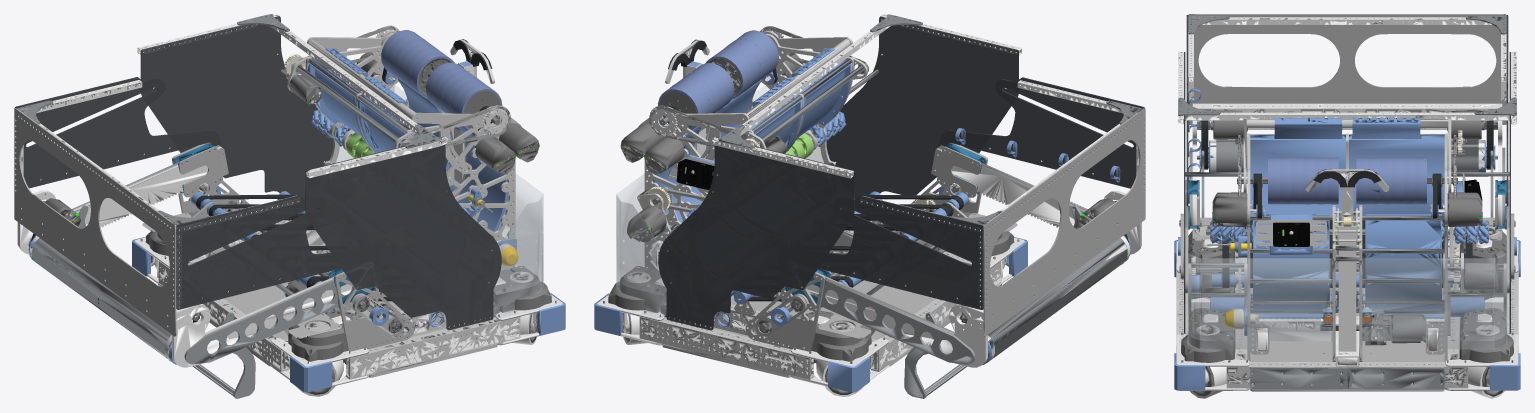
Rendered from chunk-7769.glb.
The picture shows the model from 3 angles, left to right: view 1: azimuth 30°, elevation 25°; view 2: azimuth 150°, elevation 25°; view 3: azimuth 270°, elevation 25°; orthographic projection.
Visible parts, largest first — view 1: frame, intake, flywheel, intake-roller, hood, kick-bar, climber, feeder; view 2: frame, intake, flywheel, intake-roller, hood, kick-bar, climber, feeder; view 3: frame, intake, flywheel, hood, intake-roller, climber, kick-bar.
Boxes of the visible parts, x1,y1,x2,y2 form: frame: (132, 14, 565, 396); intake: (14, 77, 352, 367); flywheel: (381, 30, 502, 129); intake-roller: (28, 235, 176, 364); hood: (307, 29, 508, 174); kick-bar: (78, 205, 255, 398); climber: (450, 39, 494, 83); feeder: (342, 129, 374, 158); frame: (594, 14, 1027, 396); intake: (807, 77, 1145, 367); flywheel: (658, 30, 778, 130); intake-roller: (983, 235, 1131, 364); hood: (651, 27, 852, 160); kick-bar: (904, 205, 1081, 398); climber: (665, 39, 709, 83); feeder: (785, 130, 818, 158); frame: (1174, 51, 1520, 398); intake: (1186, 14, 1508, 225); flywheel: (1237, 157, 1457, 204); hood: (1239, 117, 1455, 196); intake-roller: (1197, 139, 1497, 172); climber: (1305, 168, 1389, 225); kick-bar: (1201, 150, 1493, 240).
Size of the model in its own units: 0.9493 by 0.5572 by 0.7461.
